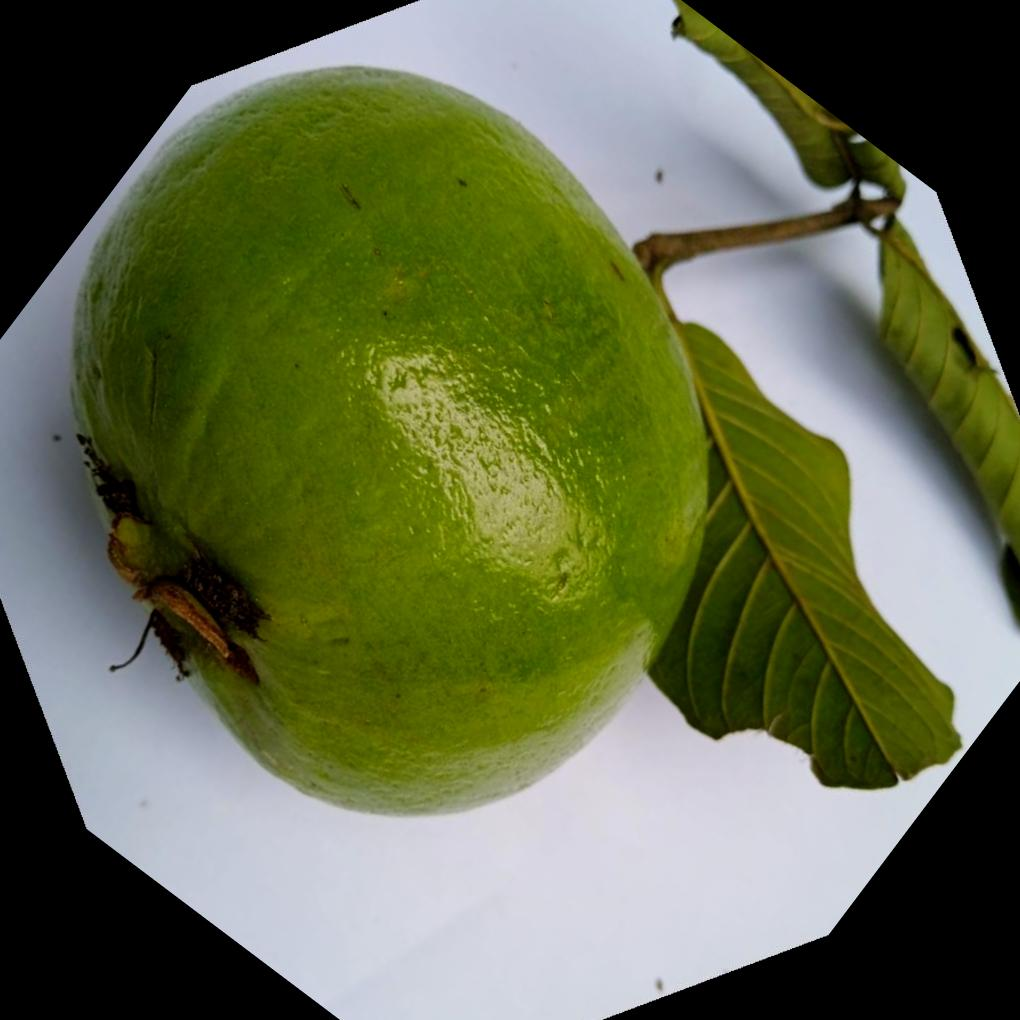FreshGuava: (66, 66, 716, 821)
